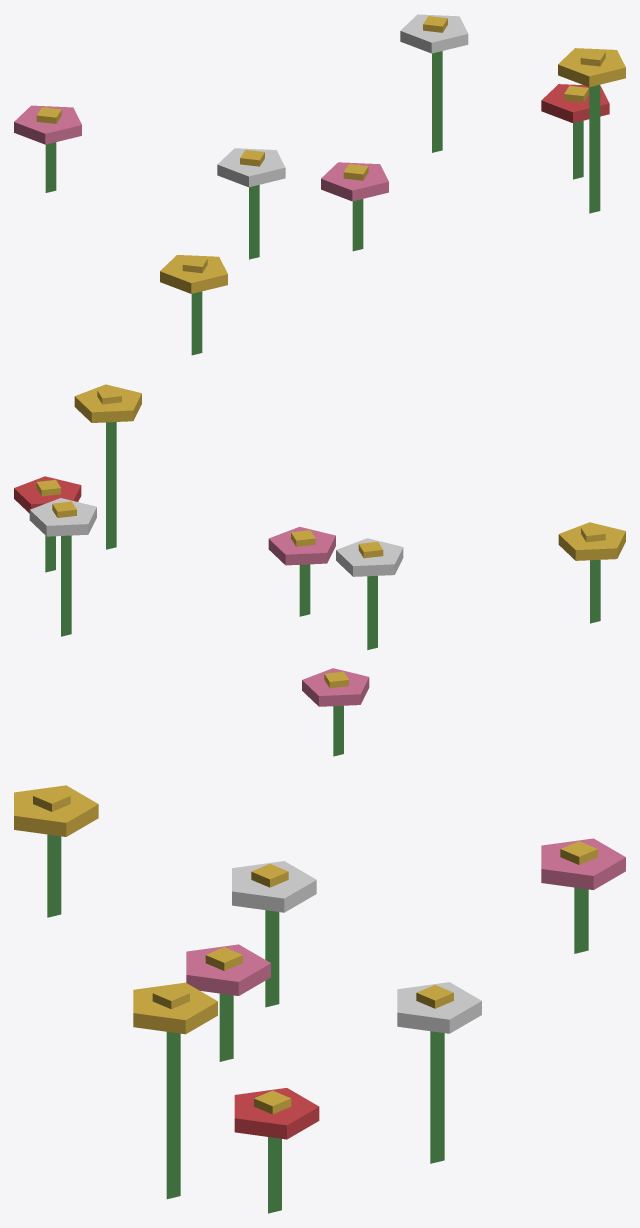
File: flowers-DHKhtjJd.glb
The picture shows the model from 3 angles, top to bottom: view 1: azimuth 30°, elevation 25°; view 2: azimuth 150°, elevation 25°; view 3: azimuth 270°, elevation 25°; orthographic projection. The views are drawn at different scales.
Parts seen in each view (by area): view 1: flowers; view 2: flowers; view 3: flowers.
Boxes of the visible parts, <box> form: flowers: <box>14,14,625,355</box>; flowers: <box>14,384,625,756</box>; flowers: <box>14,785,625,1213</box>.
Bounding box in the file's own units: 1.26 × 0.3584 × 0.9803.
